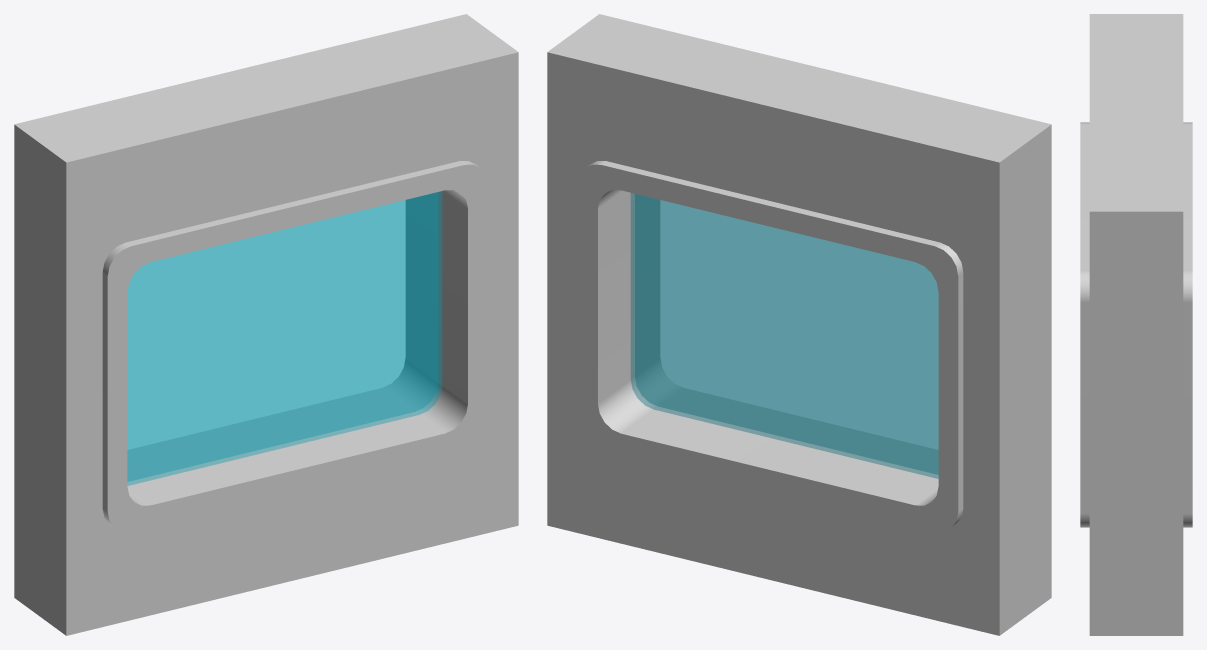
The model's file is Wall_Window.fbx.
The picture shows the model from 3 angles, left to right: view 1: azimuth 30°, elevation 25°; view 2: azimuth 150°, elevation 25°; view 3: azimuth 270°, elevation 25°; orthographic projection. The views are drawn at different scales.
Parts seen in each view (by area): view 1: Wall_Window; view 2: Wall_Window; view 3: Wall_Window.
Boxes of the visible parts, <box> form: Wall_Window: <box>14,14,518,635</box>; Wall_Window: <box>547,14,1051,635</box>; Wall_Window: <box>1080,14,1192,635</box>.
Size of the model in its own units: 5 by 1.2 by 5.
